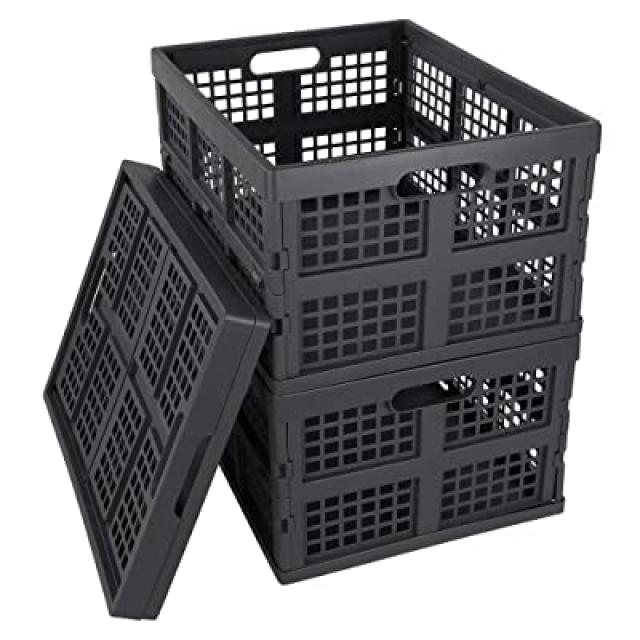basket: (0, 156, 304, 635)
